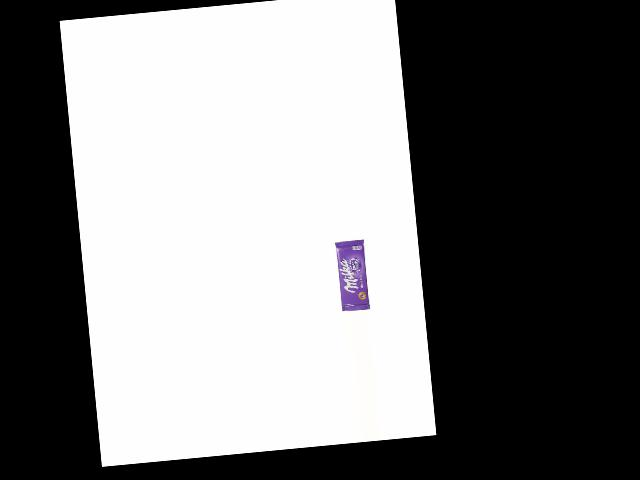chocolate: (333, 235, 373, 312)
